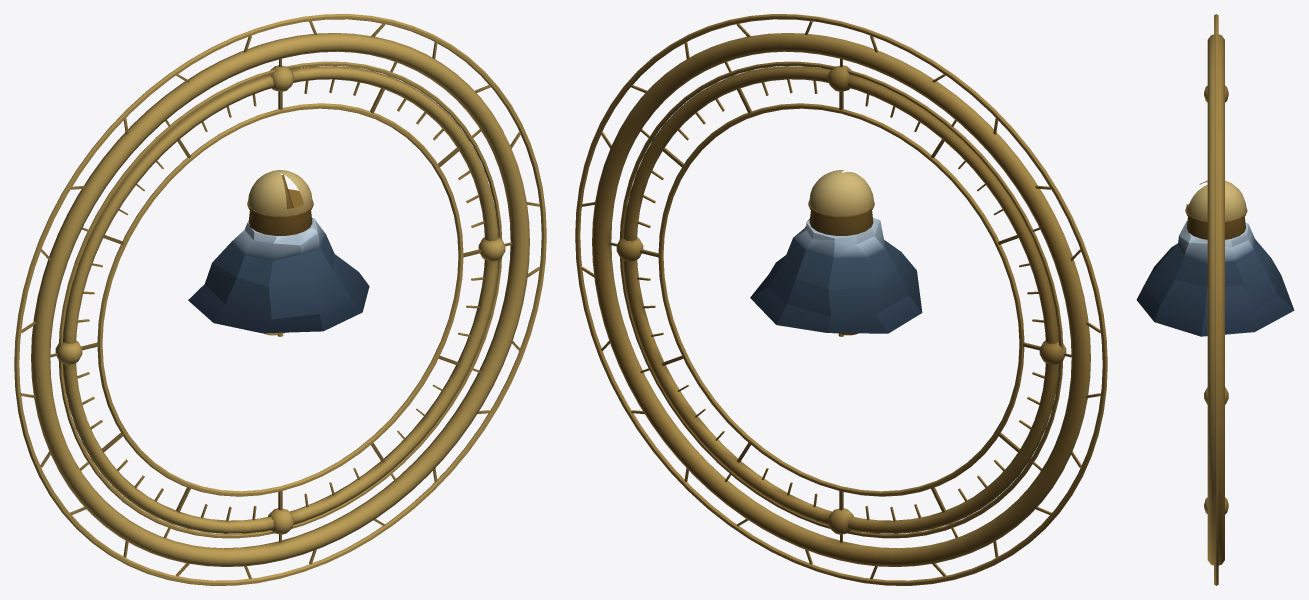
The model's file is anillos-juego.glb.
3 views of the same model, side by side, from view 1: azimuth 30°, elevation 25°; view 2: azimuth 150°, elevation 25°; view 3: azimuth 270°, elevation 25° (orthographic). The views are drawn at different scales.
Visible parts, largest first — view 1: Anillo del perihelio, Anillo de navegacion, Montana, Cupula, Tambor del observatorio; view 2: Anillo del perihelio, Anillo de navegacion, Montana, Cupula, Tambor del observatorio; view 3: Montana, Anillo del perihelio, Cupula, Tambor del observatorio, Anillo de navegacion.
Boxes of the visible parts, left/top/right/bottom form: Anillo del perihelio: left=14, top=14, right=546, bottom=585; Anillo de navegacion: left=55, top=65, right=505, bottom=534; Montana: left=188, top=218, right=369, bottom=333; Cupula: left=248, top=170, right=312, bottom=216; Tambor del observatorio: left=247, top=174, right=313, bottom=235; Anillo del perihelio: left=575, top=14, right=1107, bottom=585; Anillo de navegacion: left=616, top=65, right=1066, bottom=534; Montana: left=750, top=217, right=922, bottom=333; Cupula: left=809, top=170, right=873, bottom=216; Tambor del observatorio: left=808, top=200, right=874, bottom=235; Montana: left=1136, top=221, right=1294, bottom=336; Anillo del perihelio: left=1207, top=14, right=1224, bottom=585; Cupula: left=1186, top=180, right=1246, bottom=221; Tambor del observatorio: left=1185, top=203, right=1247, bottom=239; Anillo de navegacion: left=1204, top=85, right=1228, bottom=514.
Size of the model in its own units: 18.88 by 18.88 by 5.22.
